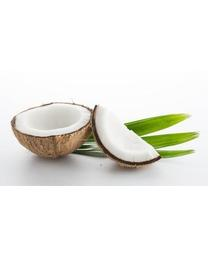coconut: (11, 100, 92, 161), (92, 104, 161, 167)
